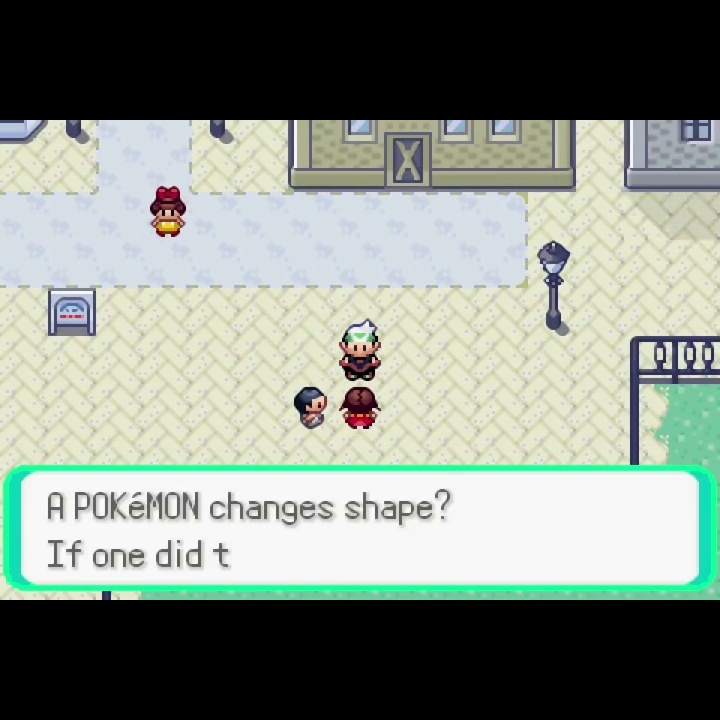house: (286, 121, 580, 191)
npc: (337, 318, 383, 382), (337, 384, 384, 431), (149, 185, 187, 241), (291, 384, 330, 431)
